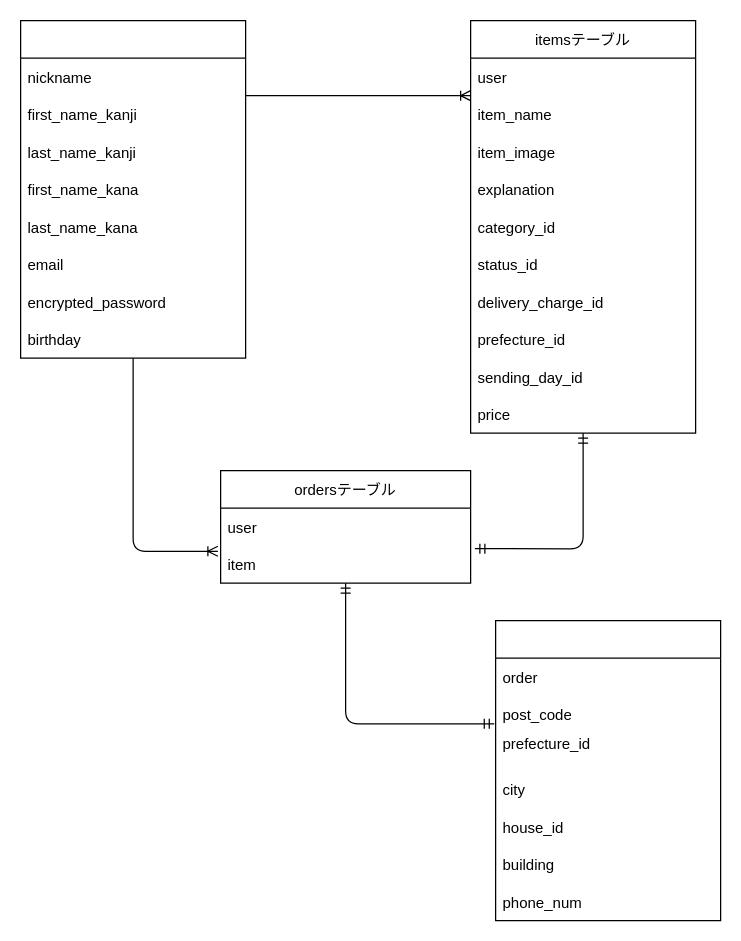
Image size: 741x941. Some labels were removed from this diagram. The shapes that lost their labels are listed below. From the top down, each one's box as (x1, y1, x2, y2) in pixels, then its label:
(19, 19, 246, 358): usersテーブル
(494, 619, 721, 921): addressesテーブル
